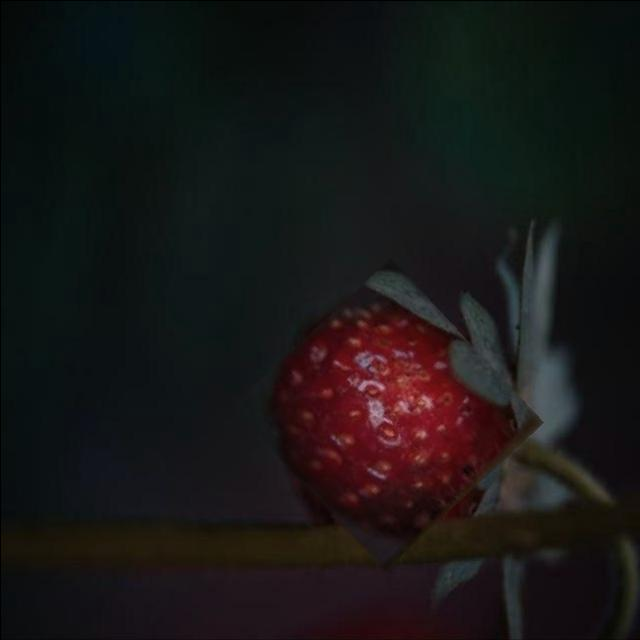strawberry: (255, 280, 519, 549)
